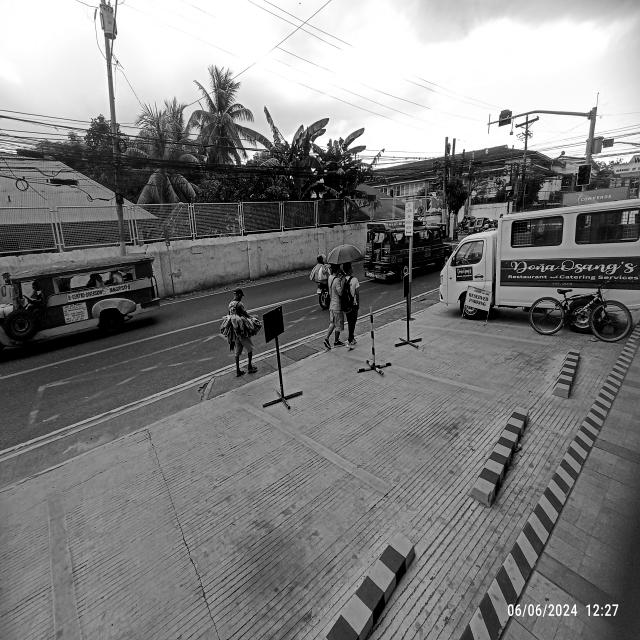vacant: (25, 365, 533, 640), (225, 277, 603, 582), (346, 315, 636, 425)
